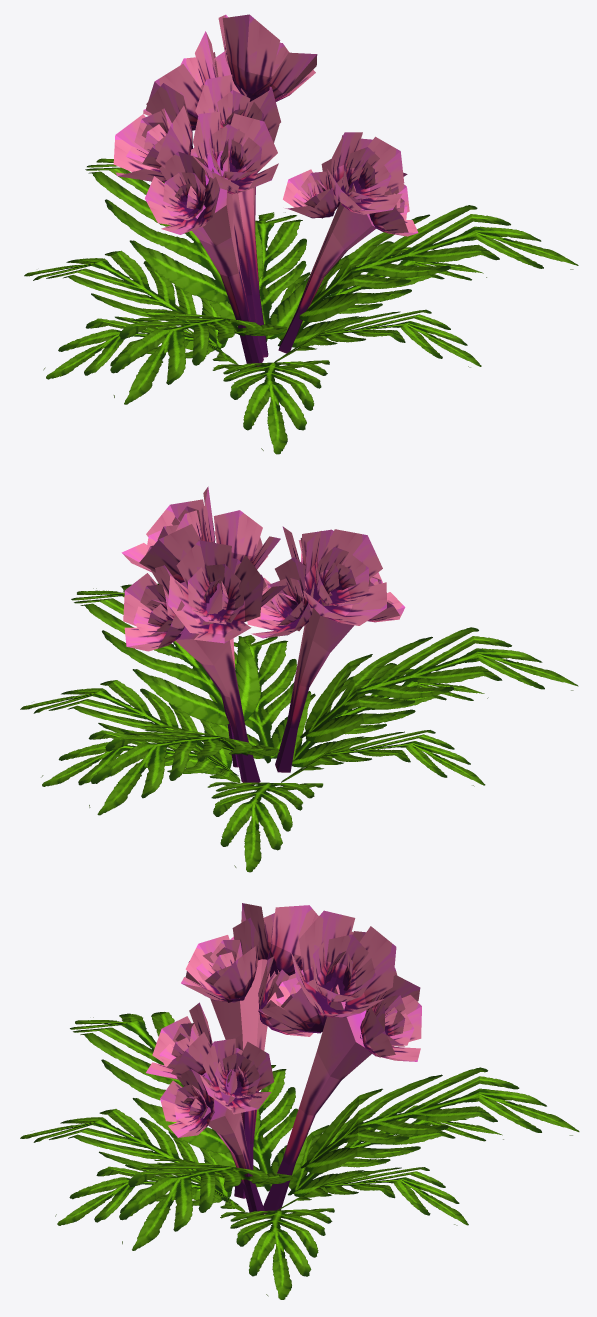
File: Mutate flower.fbx
The picture shows the model from 3 angles, top to bottom: view 1: azimuth 30°, elevation 25°; view 2: azimuth 150°, elevation 25°; view 3: azimuth 270°, elevation 25°; orthographic projection. The views are drawn at different scales.
Visible parts, largest first — view 1: Plane.014, Plane.025, Plane.026, Plane.032, Plane.029, Plane.027, Plane.036, Cube.002, Plane.028, Cube.004, Plane.034, Cube.003 (+3 smaller); view 2: Plane.026, Plane.014, Plane.025, Plane.033, Plane.027, Plane.032, Plane.031, Cube.003, Cube.002, Plane.030, Plane.036, Plane.029 (+1 smaller); view 3: Plane.025, Plane.026, Plane.014, Plane.032, Cube.003, Plane.029, Plane.037, Plane.031, Plane.027, Cube.002, Plane.036, Plane.035 (+4 smaller).
Boxes of the visible parts, x1,y1,x2,y2 form: Plane.014: [274, 205, 578, 367]; Plane.025: [24, 158, 309, 351]; Plane.026: [43, 309, 329, 454]; Plane.032: [218, 14, 317, 101]; Plane.029: [192, 111, 278, 194]; Plane.027: [113, 83, 192, 181]; Plane.036: [327, 132, 404, 214]; Cube.002: [190, 148, 263, 366]; Plane.028: [145, 151, 219, 234]; Cube.004: [278, 183, 376, 353]; Plane.034: [195, 75, 280, 142]; Cube.003: [201, 80, 268, 357]; Plane.026: [281, 627, 578, 786]; Plane.014: [20, 583, 311, 774]; Plane.025: [41, 725, 323, 872]; Plane.033: [168, 540, 263, 643]; Plane.027: [303, 529, 386, 625]; Plane.032: [121, 486, 215, 583]; Plane.031: [123, 565, 184, 651]; Cube.003: [175, 580, 260, 785]; Cube.002: [275, 592, 354, 772]; Plane.030: [247, 557, 314, 638]; Plane.036: [214, 510, 280, 569]; Plane.029: [282, 526, 333, 565]; Plane.025: [277, 1067, 579, 1225]; Plane.026: [20, 1012, 310, 1202]; Plane.014: [55, 1158, 334, 1299]; Plane.032: [291, 910, 396, 1017]; Cube.003: [263, 984, 371, 1213]; Plane.029: [181, 917, 259, 1002]; Plane.037: [200, 1038, 274, 1114]; Plane.031: [360, 991, 421, 1061]; Plane.027: [241, 903, 318, 977]; Cube.002: [210, 959, 270, 1198]; Plane.036: [146, 1002, 212, 1079]; Plane.035: [160, 1069, 214, 1137].
Size of the model in its own units: 714 by 441 by 727.
Materials: 1 (1 with a texture image).
